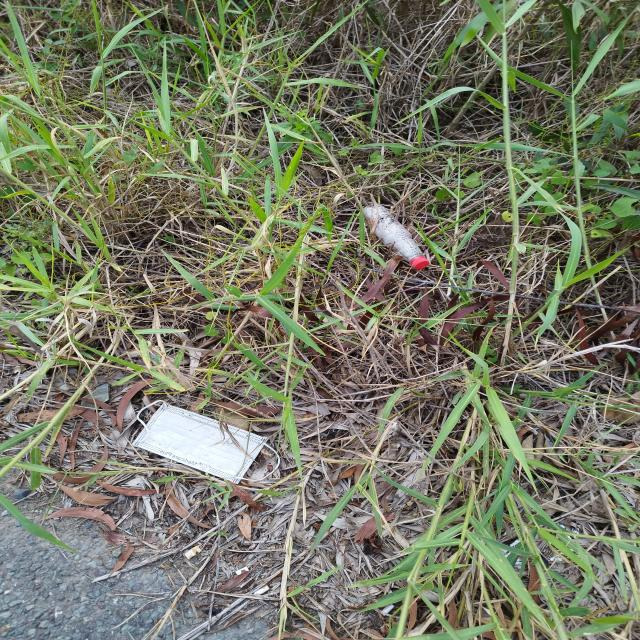bottle: (363, 203, 429, 270)
mask: (131, 400, 280, 484)
